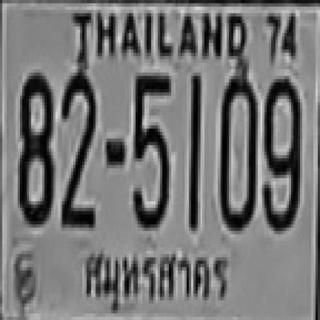N00: (218, 72, 256, 228)
N02: (60, 71, 96, 220), (60, 79, 96, 224)
N05: (131, 73, 169, 224)
N08: (17, 69, 52, 221)
N09: (260, 76, 300, 228)
P58: (79, 246, 235, 310)
